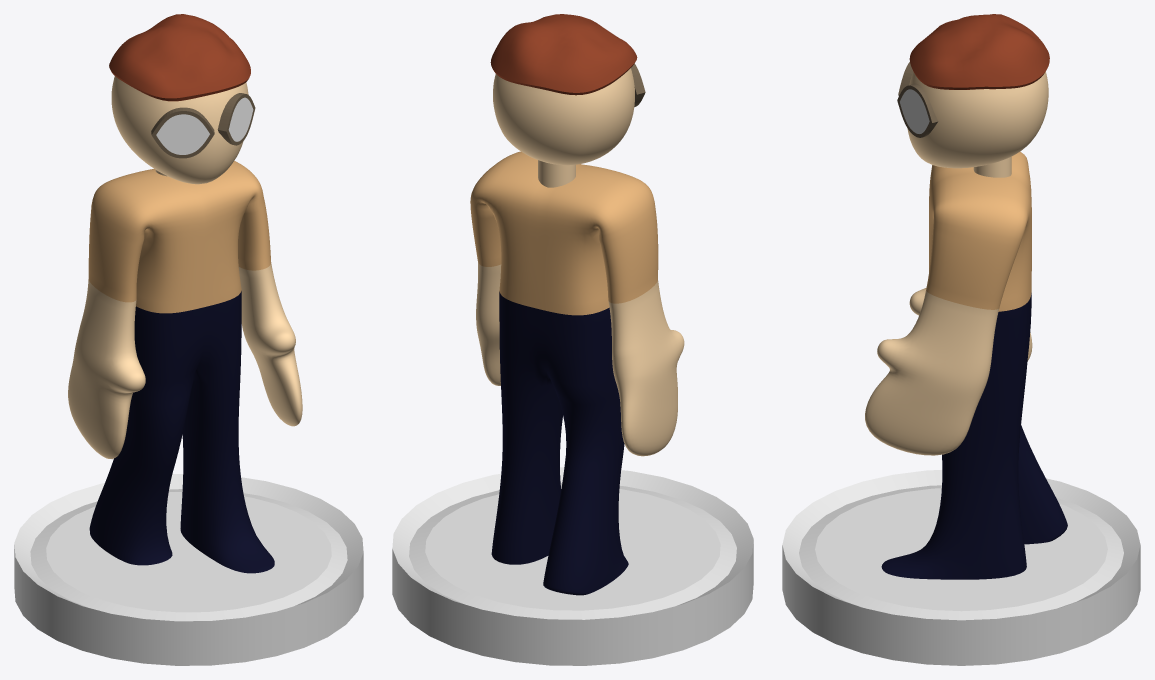
Rendered from kirill-slice.fbx.
3 renders of one model, left to right at view 1: azimuth 30°, elevation 25°; view 2: azimuth 150°, elevation 25°; view 3: azimuth 270°, elevation 25°, orthographic. The views are drawn at different scales.
Parts seen in each view (by area): view 1: Cube.002, Cylinder, Cube.003, Circle.001, Circle.002; view 2: Cube.002, Cylinder, Cube.003, Cylinder.001; view 3: Cube.002, Cylinder, Cube.003, Circle.002, Cylinder.001.
Boxes of the visible parts, box(x1,y1,x2,y2) form: Cube.002: box(68, 161, 302, 573); Cylinder: box(14, 474, 363, 665); Cube.003: box(109, 14, 250, 184); Circle.001: box(151, 107, 214, 158); Circle.002: box(217, 93, 255, 145); Cube.002: box(470, 151, 684, 595); Cylinder: box(392, 467, 753, 665); Cube.003: box(490, 14, 637, 165); Cylinder.001: box(538, 160, 575, 187); Cube.002: box(865, 151, 1067, 579); Cylinder: box(782, 470, 1140, 665); Cube.003: box(907, 14, 1049, 168); Circle.002: box(897, 83, 938, 137); Cylinder.001: box(973, 156, 1011, 177).
Size of the model in its own units: 361 by 634 by 361.
